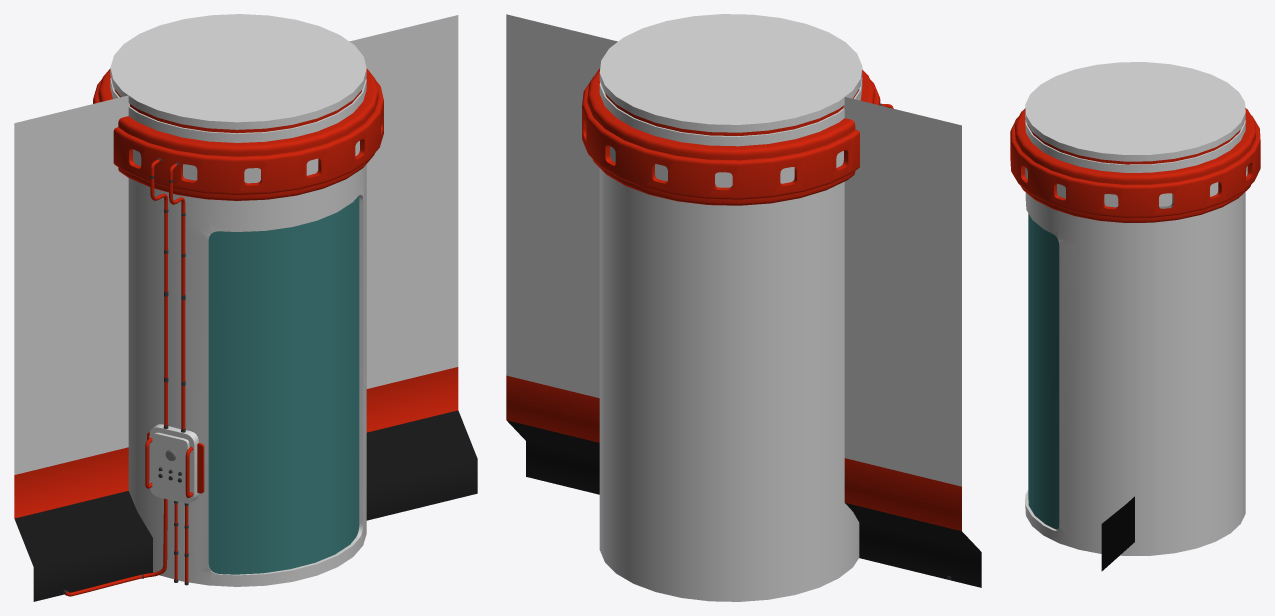
Rendered from S_assete_tube_robot_1.fbx.
3 renders of one model, left to right at view 1: azimuth 30°, elevation 25°; view 2: azimuth 150°, elevation 25°; view 3: azimuth 270°, elevation 25°, orthographic. The views are drawn at different scales.
Visible parts, largest first — view 1: Plane001; view 2: Plane001; view 3: Plane001.
Boxes of the visible parts, x1,y1,x2,y2 form: Plane001: [14, 14, 477, 601]; Plane001: [506, 14, 981, 601]; Plane001: [1010, 62, 1260, 571].
Size of the model in its own units: 400 by 400 by 226.
